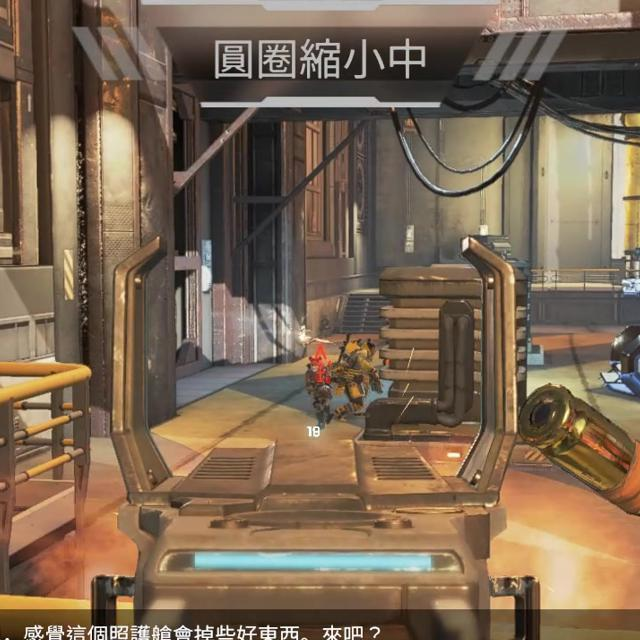avatar: (329, 336, 378, 422), (303, 353, 335, 430)
